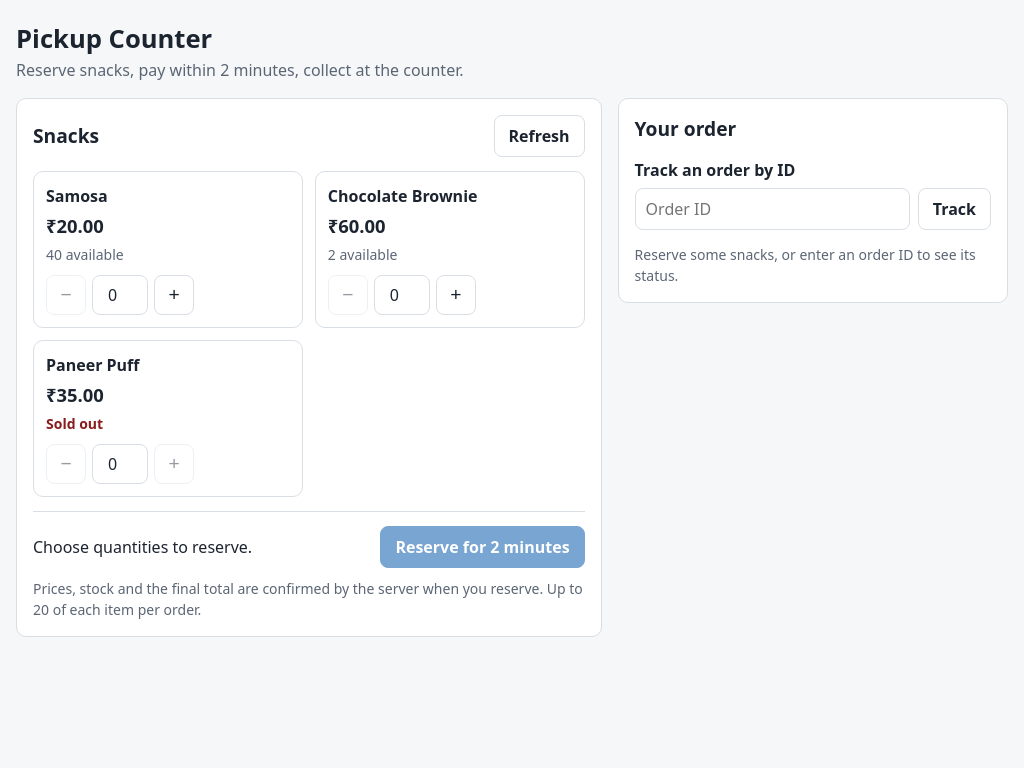
Test: quantity selection › cannot exceed the available units
Click the button named "Increase Chocolate Brownie" at point(456, 295), box [436, 275, 476, 315]
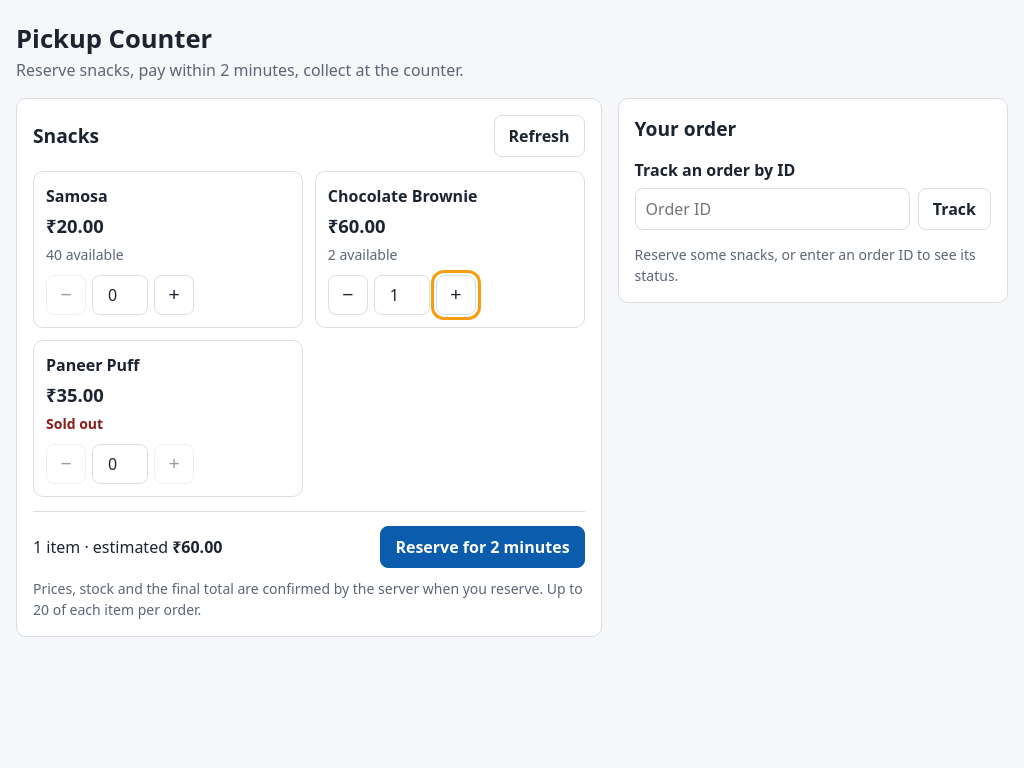
Click the button named "Increase Chocolate Brownie" at point(456, 295), box [436, 275, 476, 315]
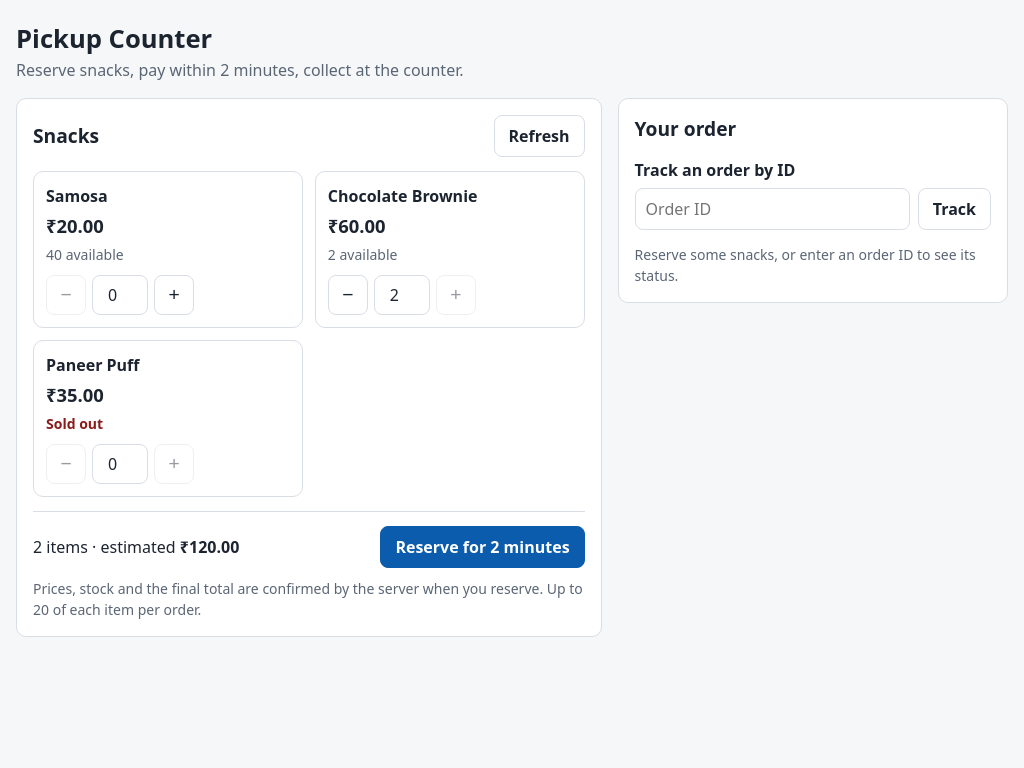
Result: the number field named "Quantity of Chocolate Brownie" below "Chocolate Brownie" holds "2" at [374, 275, 430, 315]
Result: the button named "Increase Chocolate Brownie" is disabled at [436, 275, 476, 315]
Replace the text in the number field named "Quantity of Samosa" below "Samosa" with "99" at point(120, 295), box [92, 275, 148, 315]
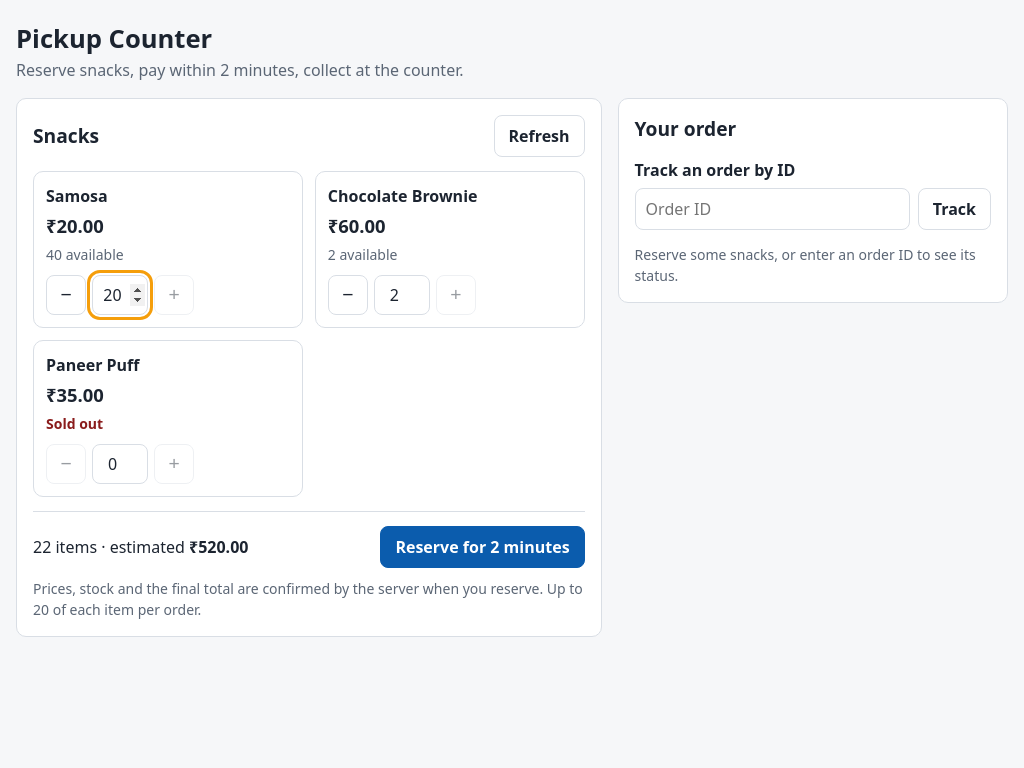
Result: the number field named "Quantity of Samosa" below "Samosa" holds "20" at [92, 275, 148, 315]
